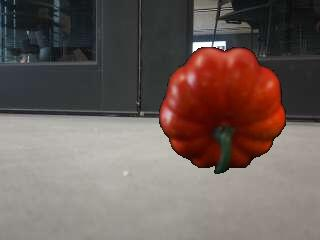Pumpkin: (159, 48, 287, 174)
